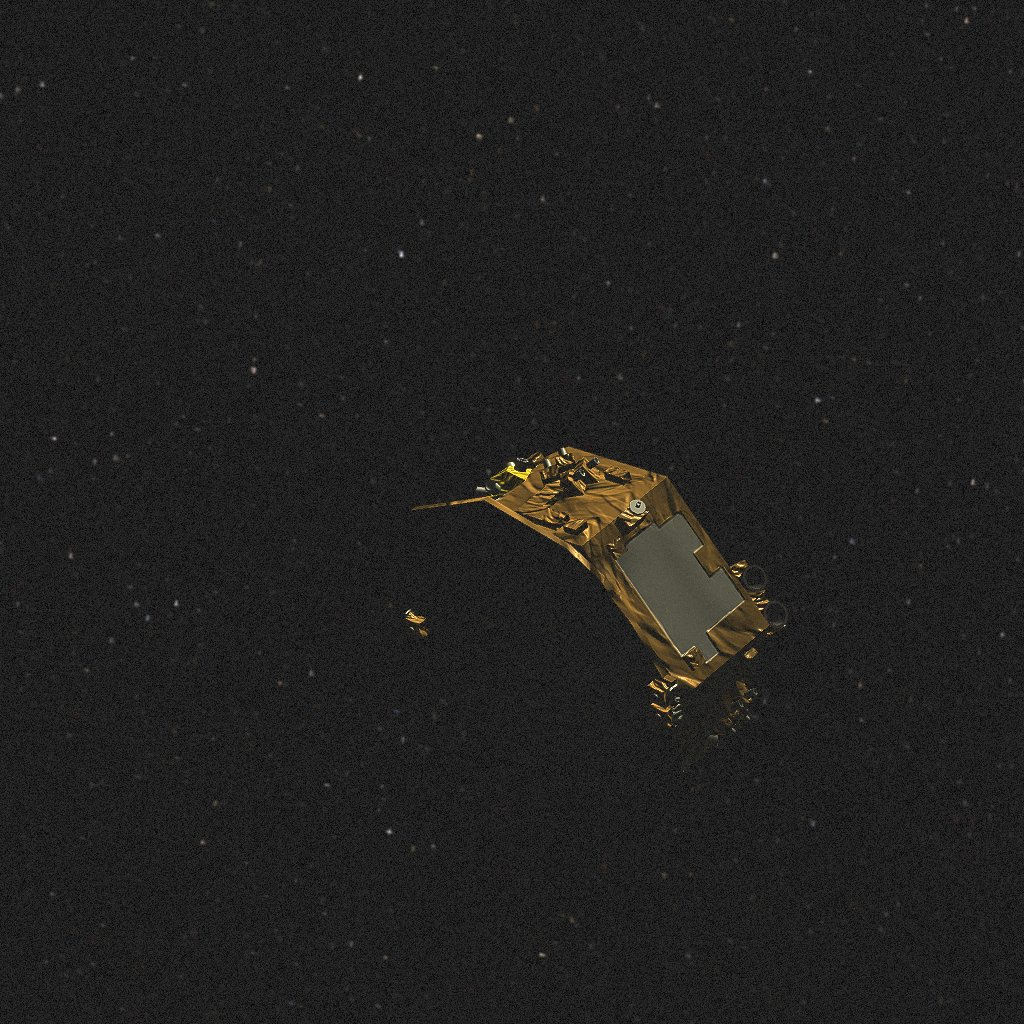lisa_pathfinder: (398, 447, 788, 833)
